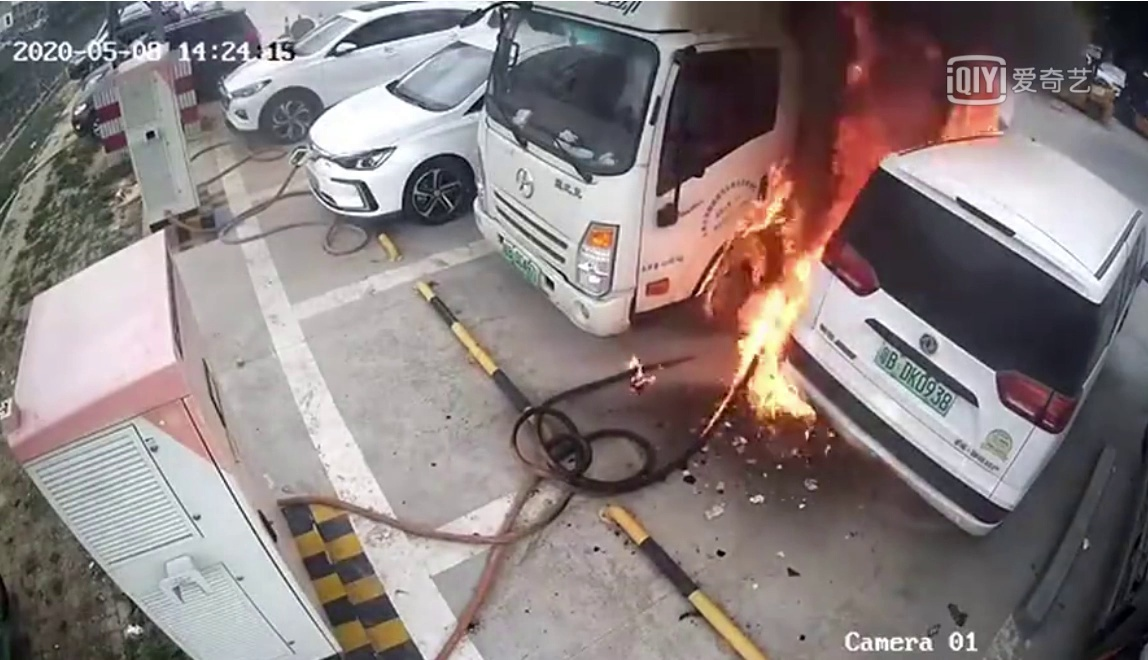fire: (772, 10, 901, 198), (725, 183, 822, 430)
